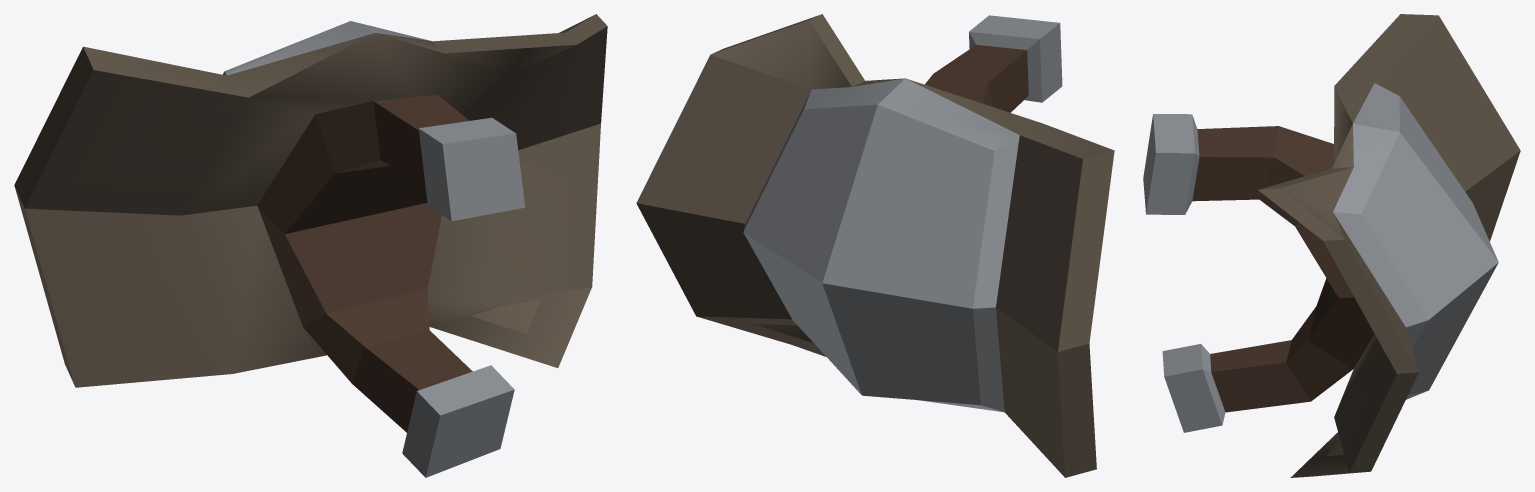
File: Chr_ElbowAttachLeft_01_Static.fbx
3 renders of one model, left to right at view 1: azimuth 30°, elevation 25°; view 2: azimuth 150°, elevation 25°; view 3: azimuth 270°, elevation 25°, orthographic. The views are drawn at different scales.
Parts seen in each view (by area): view 1: Chr_ElbowAttachLeft_01_Static; view 2: Chr_ElbowAttachLeft_01_Static; view 3: Chr_ElbowAttachLeft_01_Static.
Part boxes in pixels (box(x1,y1,x2,y2)): Chr_ElbowAttachLeft_01_Static: box(14, 14, 607, 477); Chr_ElbowAttachLeft_01_Static: box(636, 14, 1114, 477); Chr_ElbowAttachLeft_01_Static: box(1143, 14, 1520, 477).
Bounding box in the file's own units: 0.1839 × 0.1228 × 0.1335.
